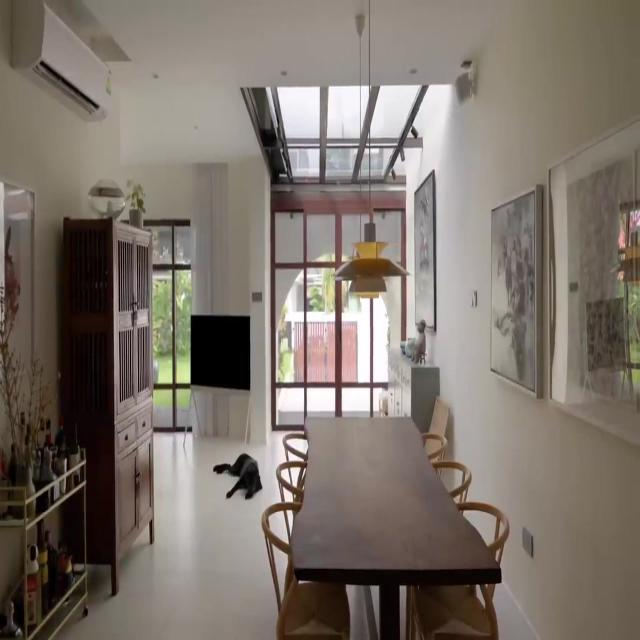obstacle: (290, 414, 502, 638), (59, 216, 155, 596), (0, 444, 88, 639)
